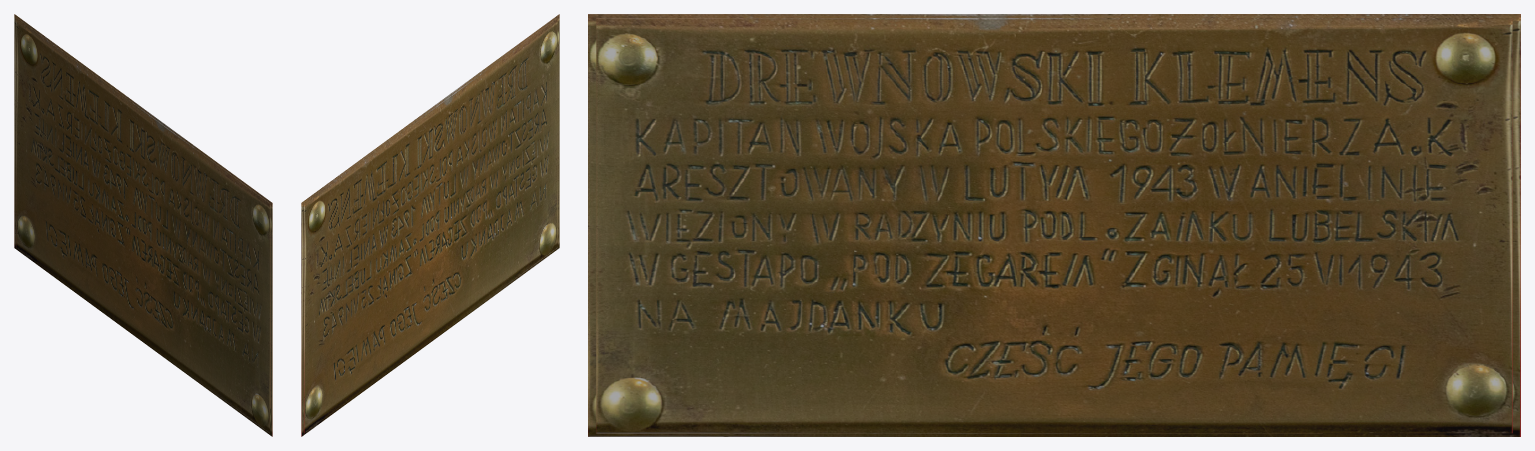
The model's file is 12. DREWNOWSKI KLEMENS.glb.
The picture shows the model from 3 angles, left to right: view 1: azimuth 30°, elevation 25°; view 2: azimuth 150°, elevation 25°; view 3: azimuth 270°, elevation 25°; orthographic projection. The views are drawn at different scales.
Visible parts, largest first — view 1: Plane; view 2: Plane; view 3: Plane.
Part boxes in pixels (left/top/right/bottom): Plane: left=14, top=14, right=272, bottom=436; Plane: left=301, top=14, right=559, bottom=436; Plane: left=588, top=14, right=1520, bottom=436.
Bounding box in the file's own units: 0.0246 × 7 × 14.
1 material, 1 textured.
